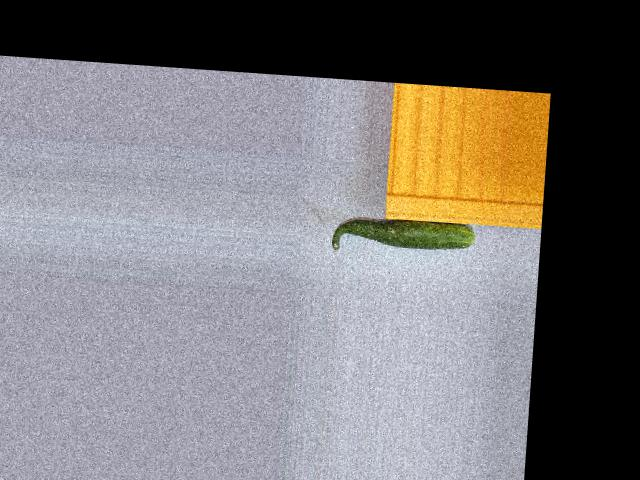cucumber: (330, 214, 474, 259)
